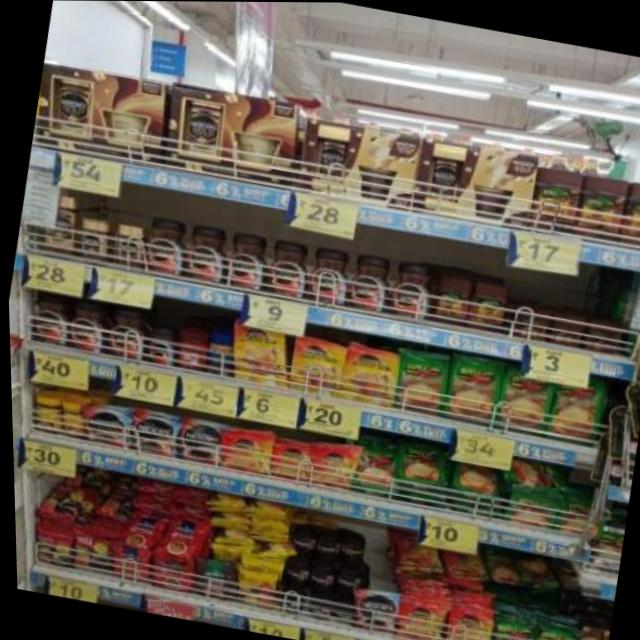Coffee: (225, 317, 287, 386), (335, 343, 399, 407), (285, 333, 344, 395), (342, 254, 392, 312), (180, 224, 227, 282), (221, 232, 267, 291), (262, 239, 308, 298), (305, 247, 351, 304), (385, 261, 429, 320), (141, 216, 185, 274), (216, 428, 270, 474), (62, 297, 107, 351), (305, 441, 354, 489), (24, 292, 69, 344), (104, 306, 147, 360), (348, 585, 396, 633), (74, 407, 128, 449), (39, 191, 76, 251), (392, 595, 441, 640), (129, 411, 177, 455), (175, 419, 220, 463), (439, 603, 488, 640), (265, 441, 307, 483), (75, 217, 109, 262), (142, 324, 177, 366), (110, 224, 140, 265), (278, 556, 307, 583), (281, 527, 312, 548), (332, 567, 362, 588), (300, 594, 326, 618), (273, 590, 298, 614), (326, 599, 351, 623), (338, 537, 364, 559), (308, 562, 331, 585), (314, 534, 337, 553)
